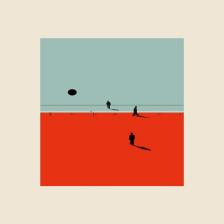red: (40, 113, 184, 186)
